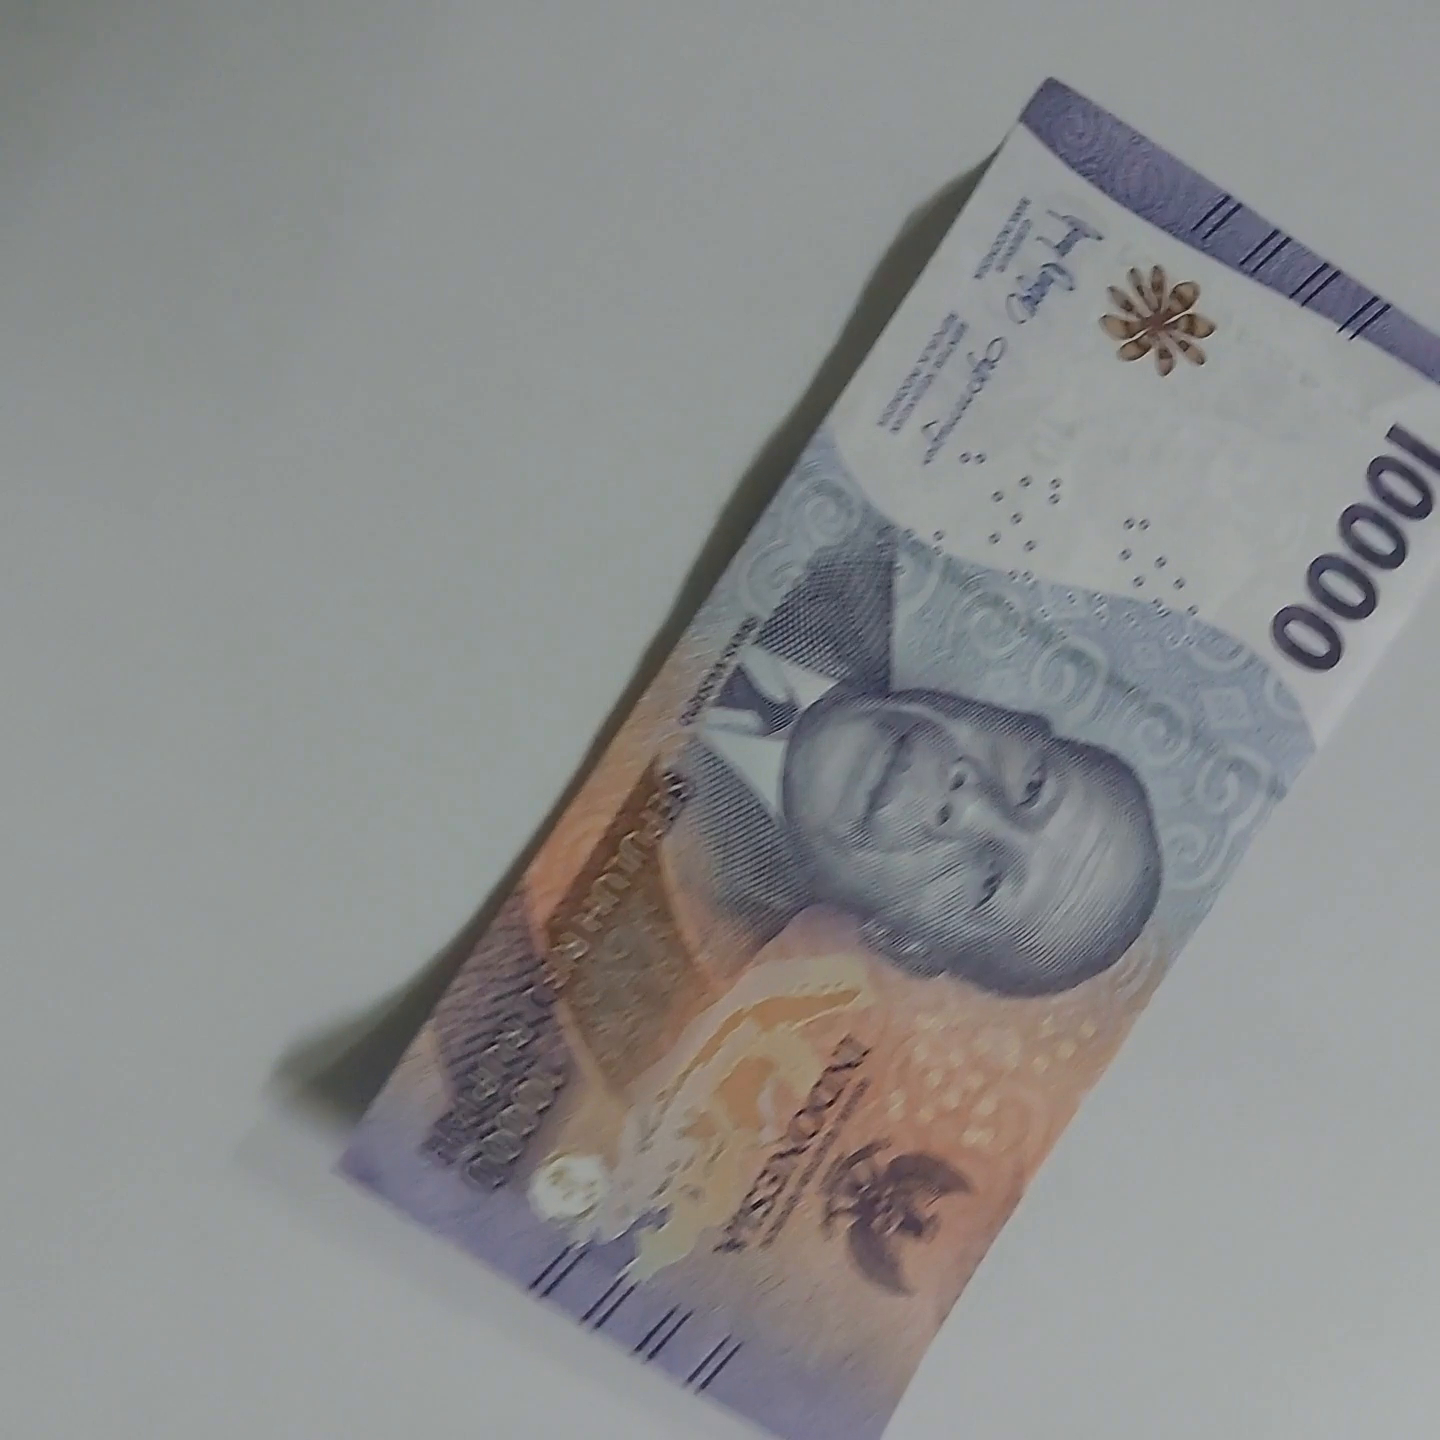10k: (339, 75, 1440, 1440)
